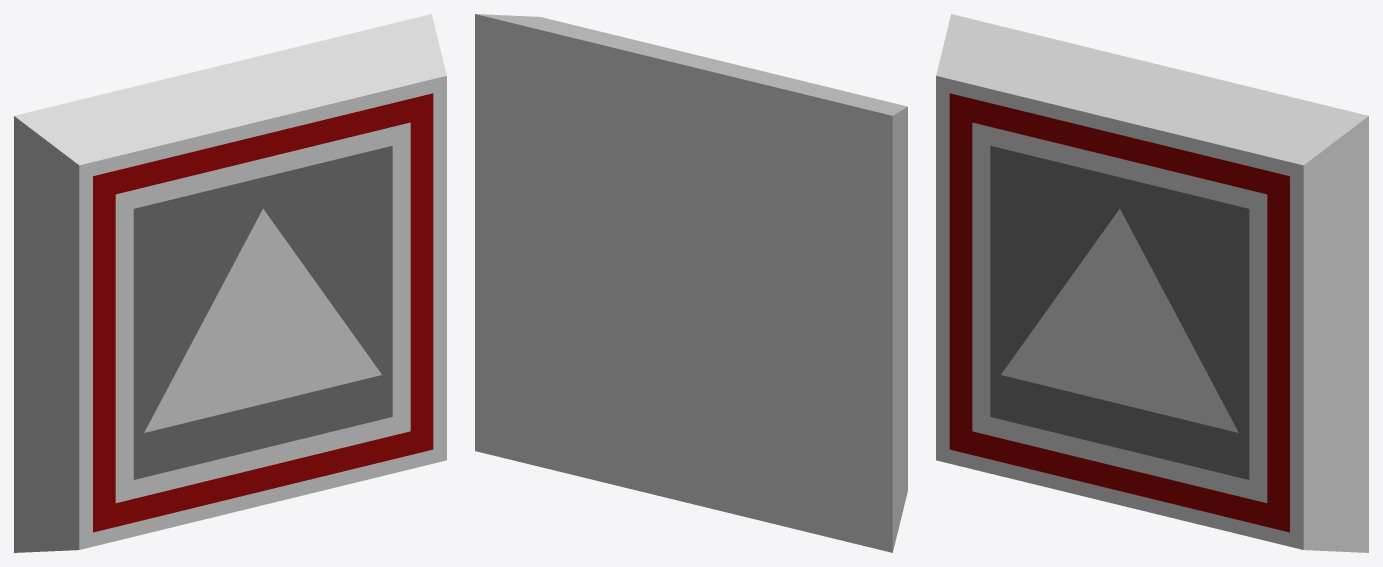
File: SciFi_Modular_Semiotic_Bridge_01.fbx
3 renders of one model, left to right at view 1: azimuth 30°, elevation 25°; view 2: azimuth 150°, elevation 25°; view 3: azimuth 330°, elevation 25°, orthographic.
Visible parts, largest first — view 1: SciFi_Modular_Semiotic_Bridge_01; view 2: SciFi_Modular_Semiotic_Bridge_01; view 3: SciFi_Modular_Semiotic_Bridge_01.
Boxes of the visible parts, bbox=[...] form: SciFi_Modular_Semiotic_Bridge_01: bbox=[14, 14, 446, 552]; SciFi_Modular_Semiotic_Bridge_01: bbox=[475, 14, 907, 552]; SciFi_Modular_Semiotic_Bridge_01: bbox=[936, 14, 1368, 552].
Bounding box in the file's own units: 536 × 536 × 89.41.
